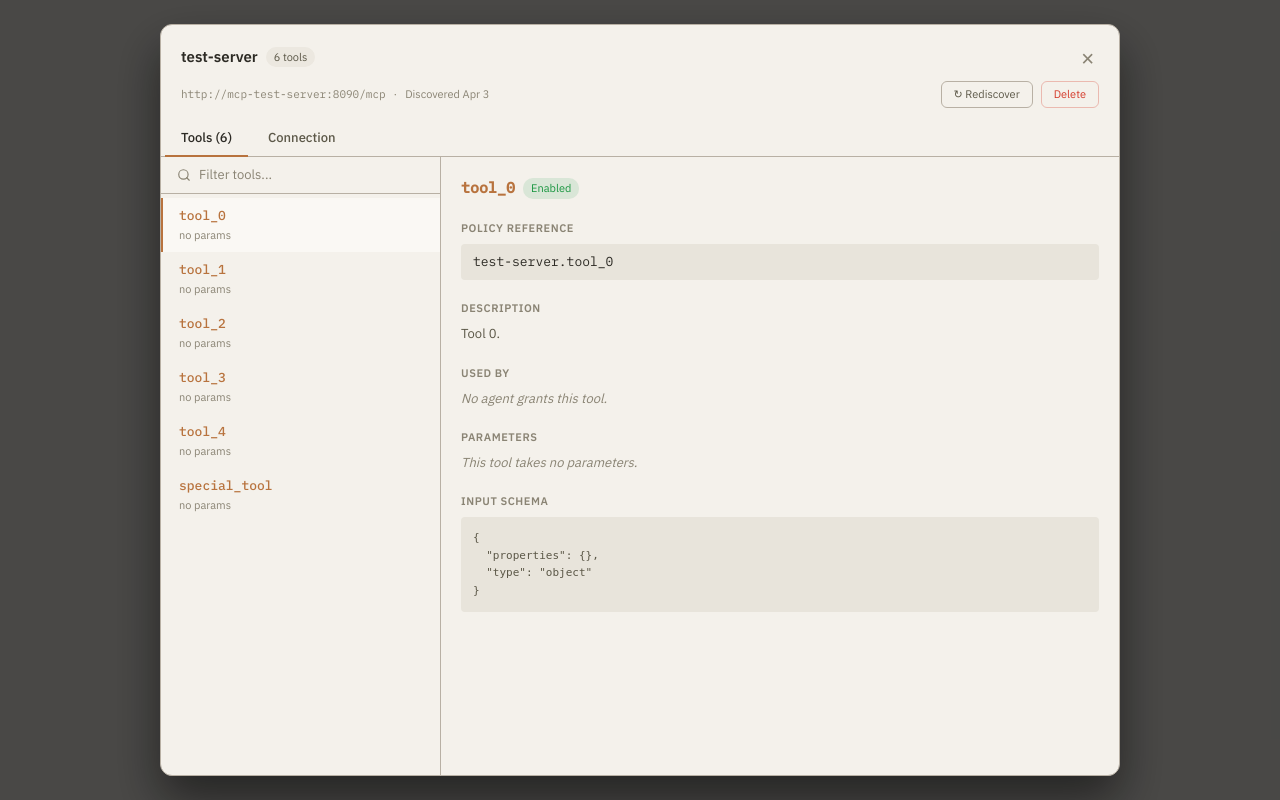
Test: ServerDetailModal — tools tab › falls back to the first visible tool when the filter hides the selection
Step 1. Click the button "tool_2 no params" → (202, 323), box [161,306,440,360]
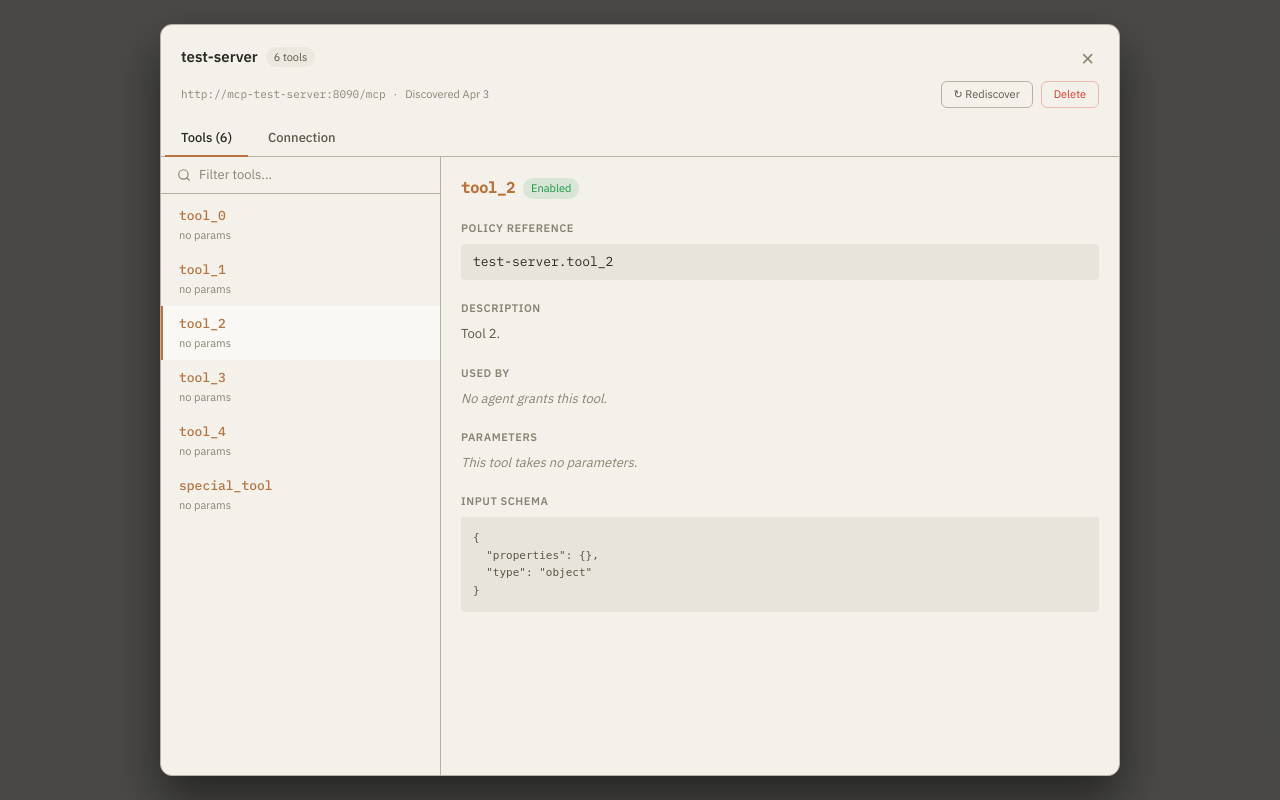
Step 2. Type "special" into the field labelled "Filter tools" → (312, 175), box [199,165,424,184]
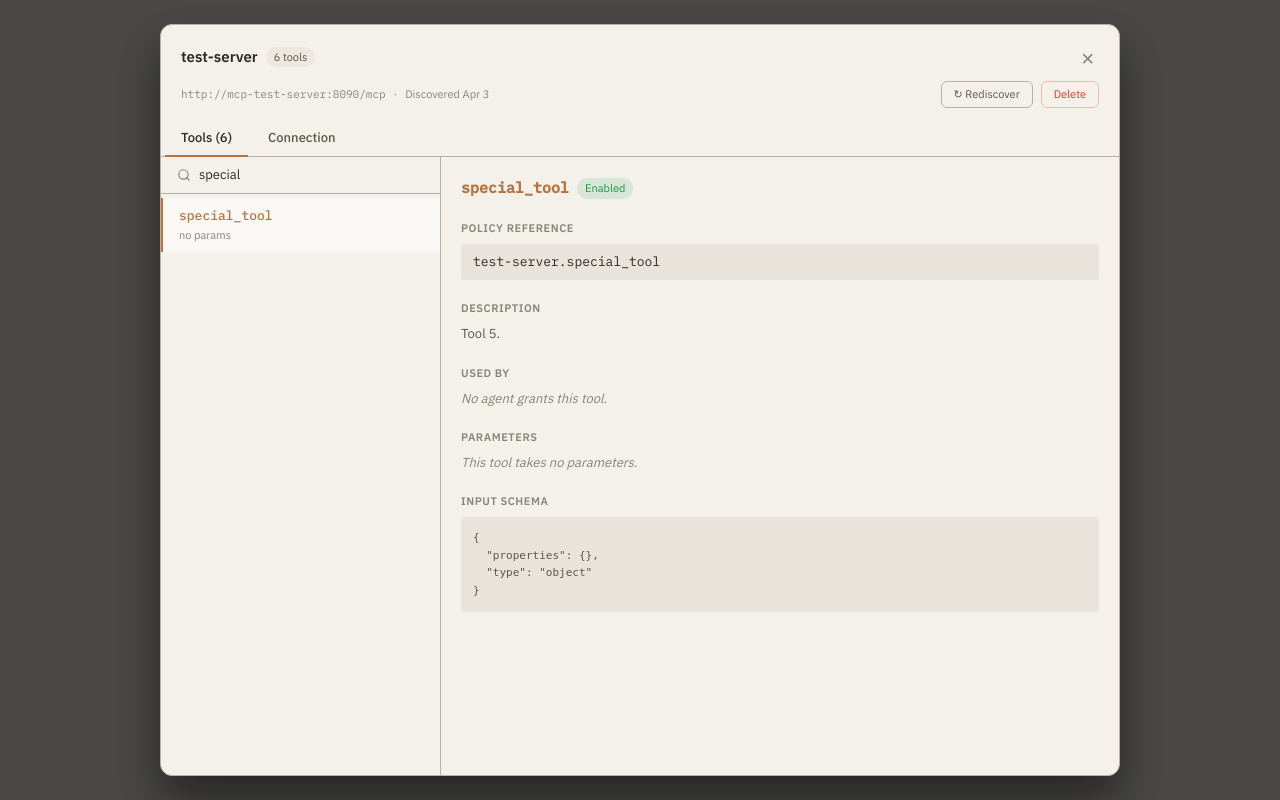
Expected: the button "tool_2" is gone
Expected: the element named "special_tool details" is shown, [441,157,1119,632]
